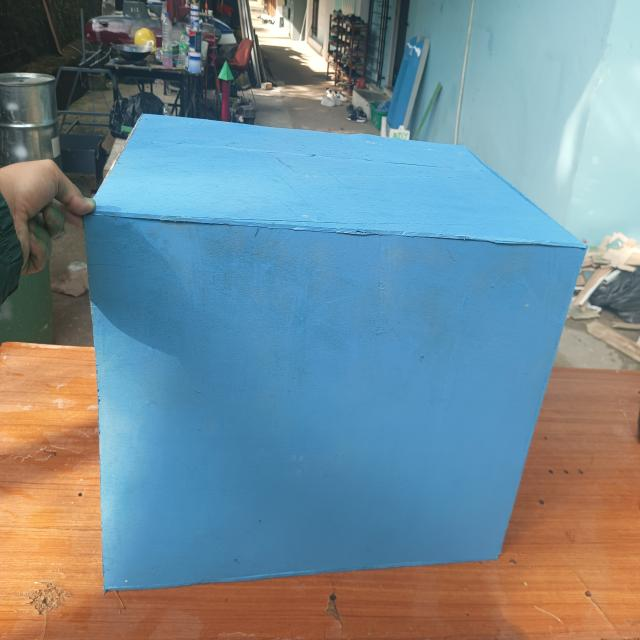blue_box: (77, 109, 550, 566)
